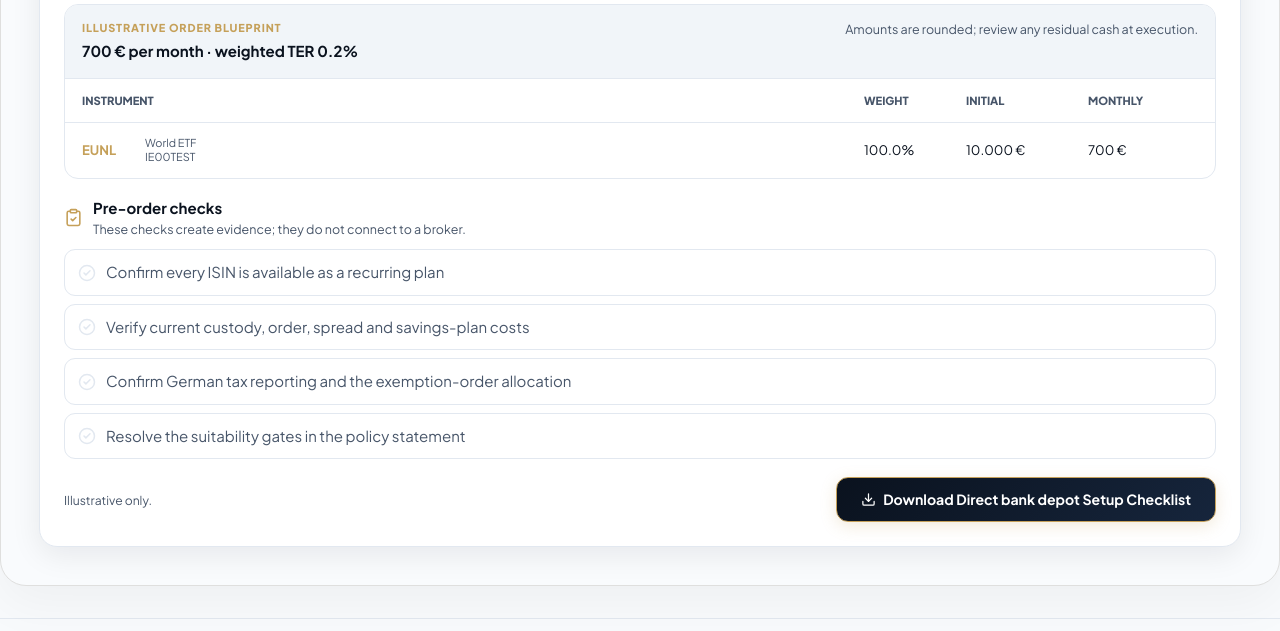
investment closing workflow › renders reconciled orders and tracks implementation checks
The width and height of the screenshot is (1280, 631).
(page scrolled)
Expected: the table named "monthly investment orders" is shown, top-left (65, 78), bottom-right (1215, 178)
Expected: the table named "monthly investment orders" shows "IE00TEST", top-left (145, 150), bottom-right (195, 163)
Click the text "Confirm every ISIN is available as a recurring plan": click(275, 273) top-left (106, 261), bottom-right (444, 284)
(page scrolled)
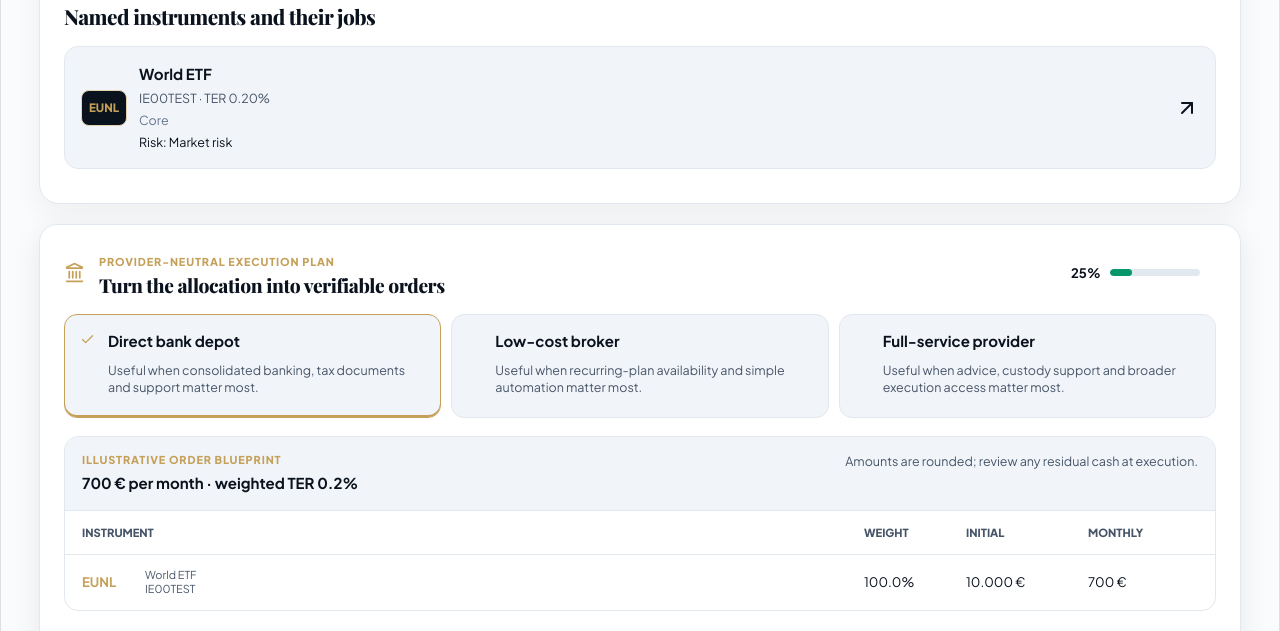
Result: the element named "25% of implementation checks complete" is shown at top-left (1071, 263), bottom-right (1216, 282)
